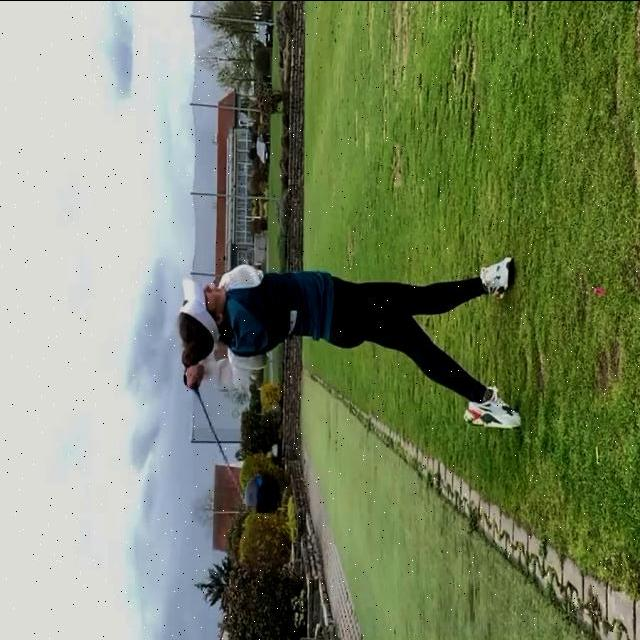golf club-handle: (188, 370, 284, 516)
golf club-head: (243, 471, 280, 513)
